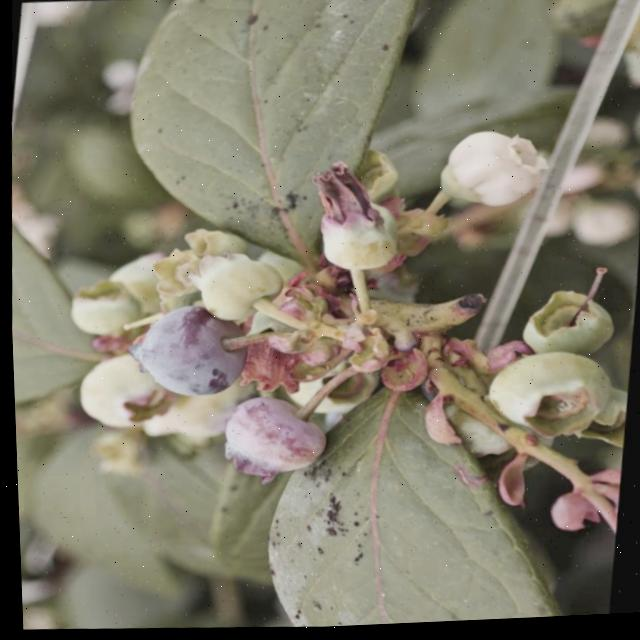RipeBlueBerry: (125, 297, 253, 405)
Semi-RipeBlueBerry: (218, 387, 337, 487)
UnripeBlueBerry: (483, 344, 621, 451)
